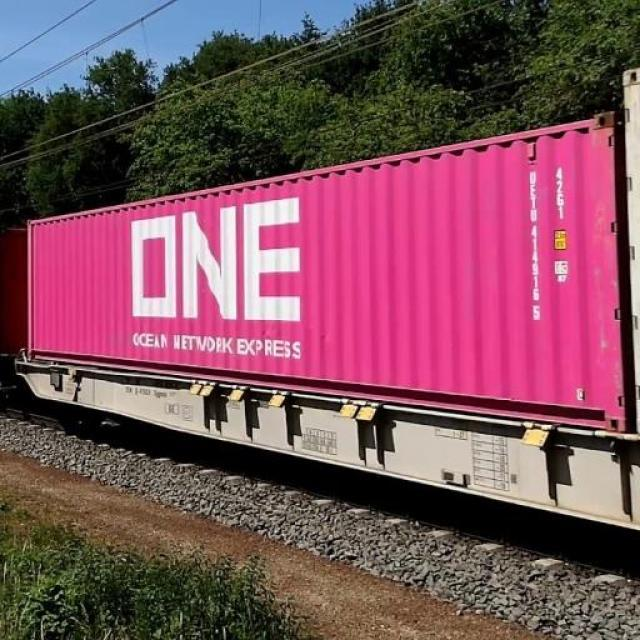ISO: (552, 158, 568, 224)
container_number: (524, 164, 540, 326)
